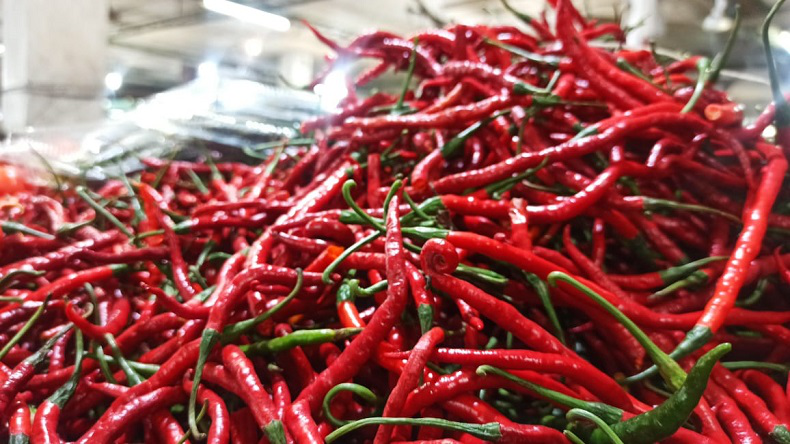Cabai: (297, 97, 638, 376)
